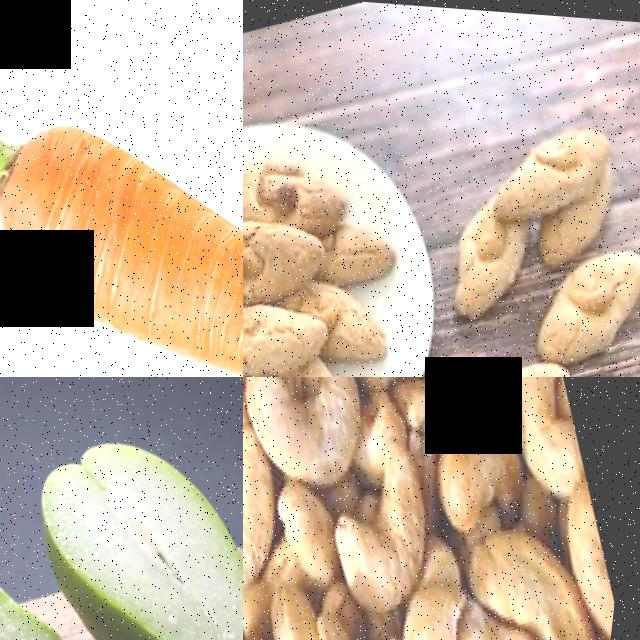carrot: (0, 0, 243, 377)
cashew: (449, 481, 629, 640), (418, 394, 561, 530), (483, 377, 610, 508), (243, 377, 391, 489), (243, 456, 324, 599), (380, 571, 495, 640)
chayote: (0, 377, 243, 640), (0, 464, 114, 640)
